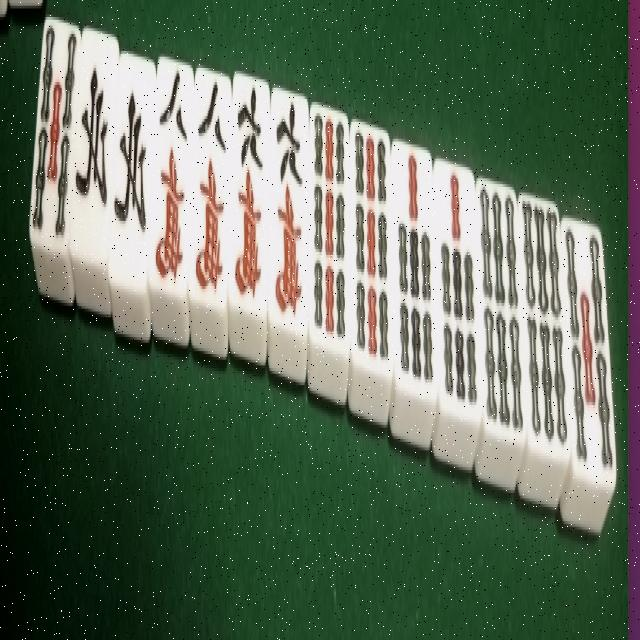bamboos_5: (564, 210, 616, 467), (30, 3, 79, 246)
bamboos_6: (522, 184, 568, 456), (478, 176, 524, 439)
bamboos_7: (434, 159, 479, 416), (396, 136, 434, 379)
bamboos_9: (307, 99, 354, 380), (354, 119, 393, 368)
characters_6: (230, 65, 268, 306), (269, 82, 305, 334)
characters_8: (188, 65, 231, 295), (154, 45, 190, 292)
north: (70, 26, 118, 258), (111, 51, 157, 292)
